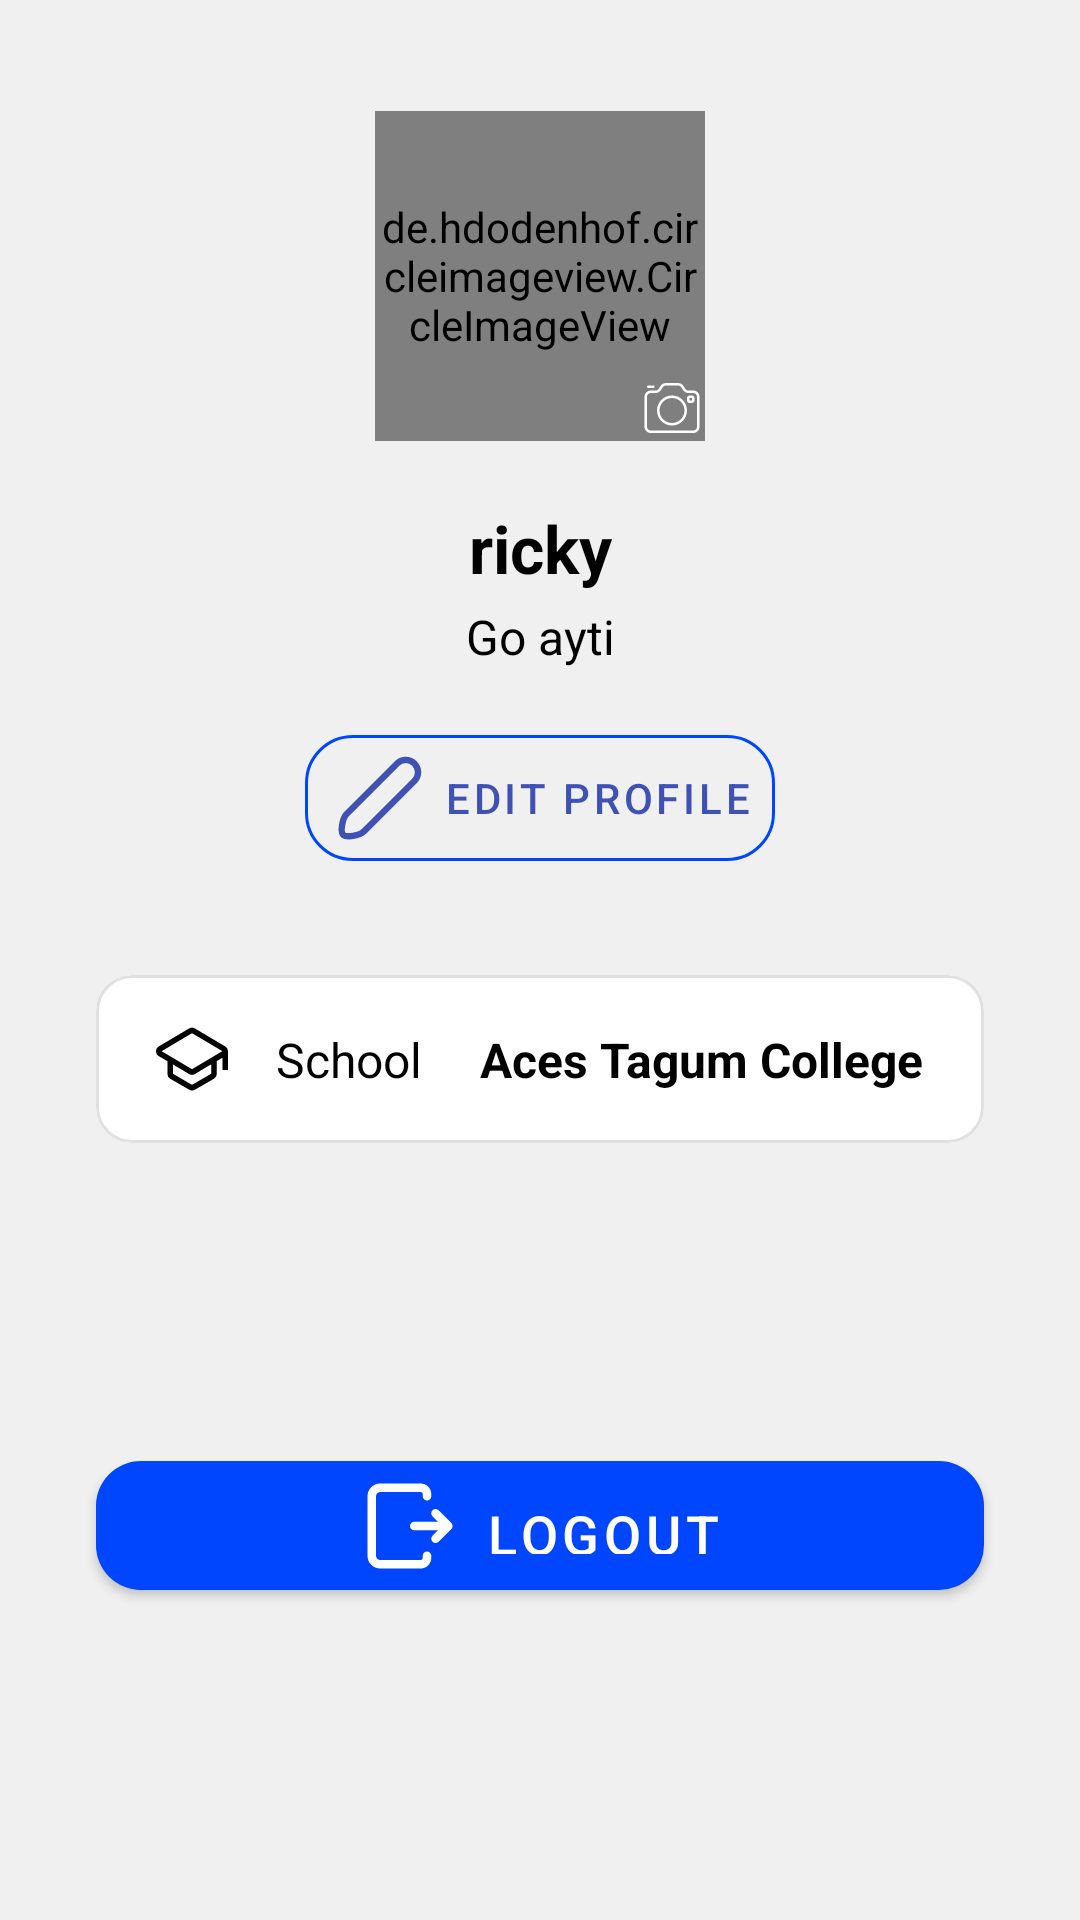

Named icons in this screenshot (1080 x 1920) and their centers, (x=x, y=y):
Edit photo: (x=672, y=408)
University icon: (x=192, y=1059)
